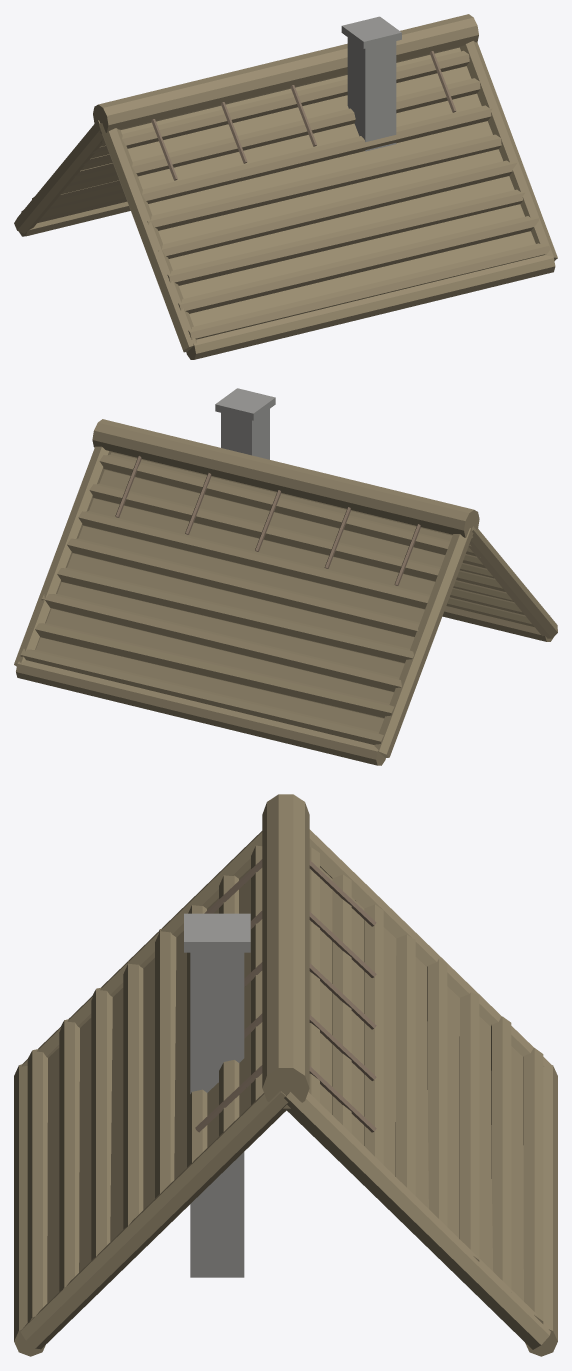
Rendered from IzbaRoofB.fbx.
3 renders of one model, top to bottom at view 1: azimuth 30°, elevation 25°; view 2: azimuth 150°, elevation 25°; view 3: azimuth 270°, elevation 25°, orthographic. The views are drawn at different scales.
Parts seen in each view (by area): view 1: IzbaRoofB; view 2: IzbaRoofB; view 3: IzbaRoofB.
Part boxes in pixels (x1,y1,x2,y2): IzbaRoofB: (14, 14, 557, 359); IzbaRoofB: (14, 388, 557, 765); IzbaRoofB: (14, 794, 557, 1356).
Size of the model in its own units: 666 by 385 by 554.
